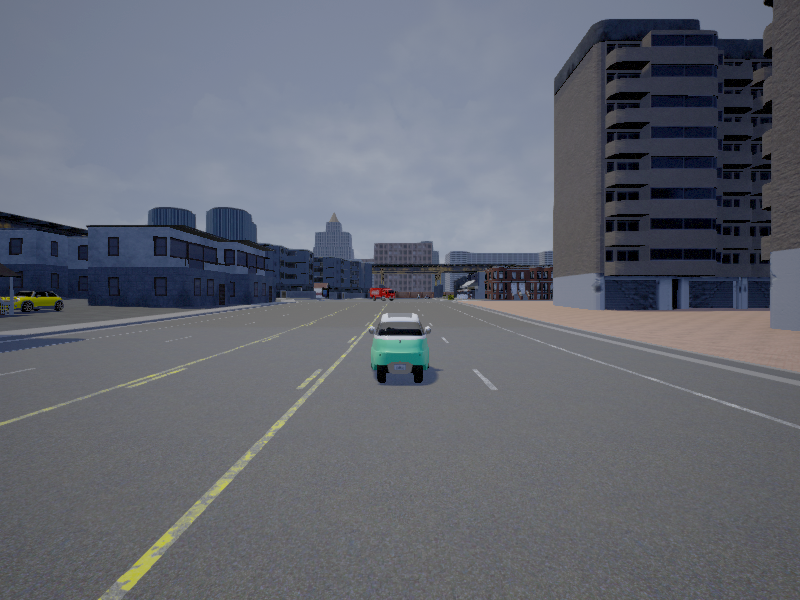Benign: (368, 313, 432, 384), (1, 290, 64, 314), (368, 288, 396, 303)
